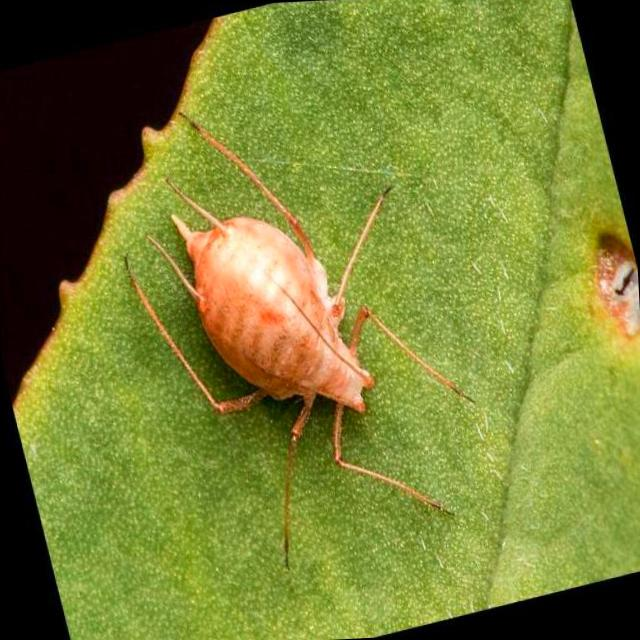aphid: (100, 73, 512, 586)
